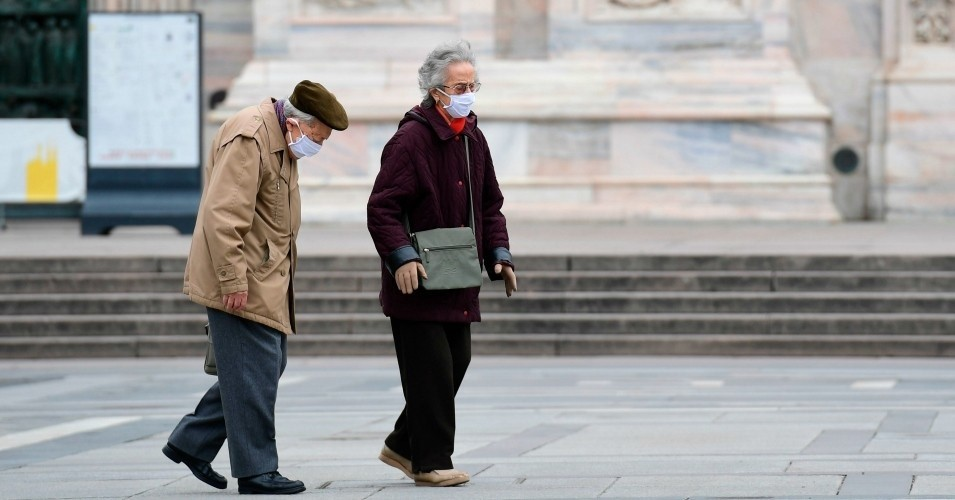face_with_mask: (273, 78, 349, 163), (421, 39, 485, 127)
